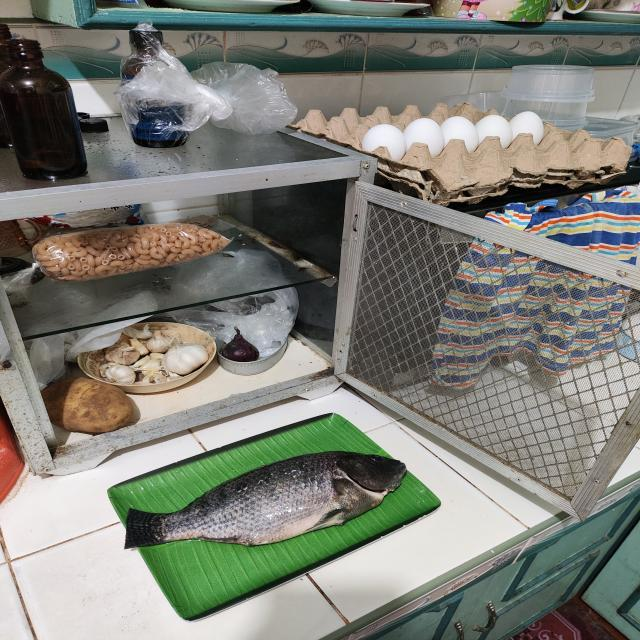egg: (402, 118, 445, 158), (365, 123, 403, 161), (474, 114, 510, 152), (511, 112, 547, 146), (444, 117, 476, 154)
fish: (125, 451, 407, 547)
garlic: (92, 333, 210, 384)
onion: (222, 332, 260, 363)
potato: (38, 378, 134, 434)
